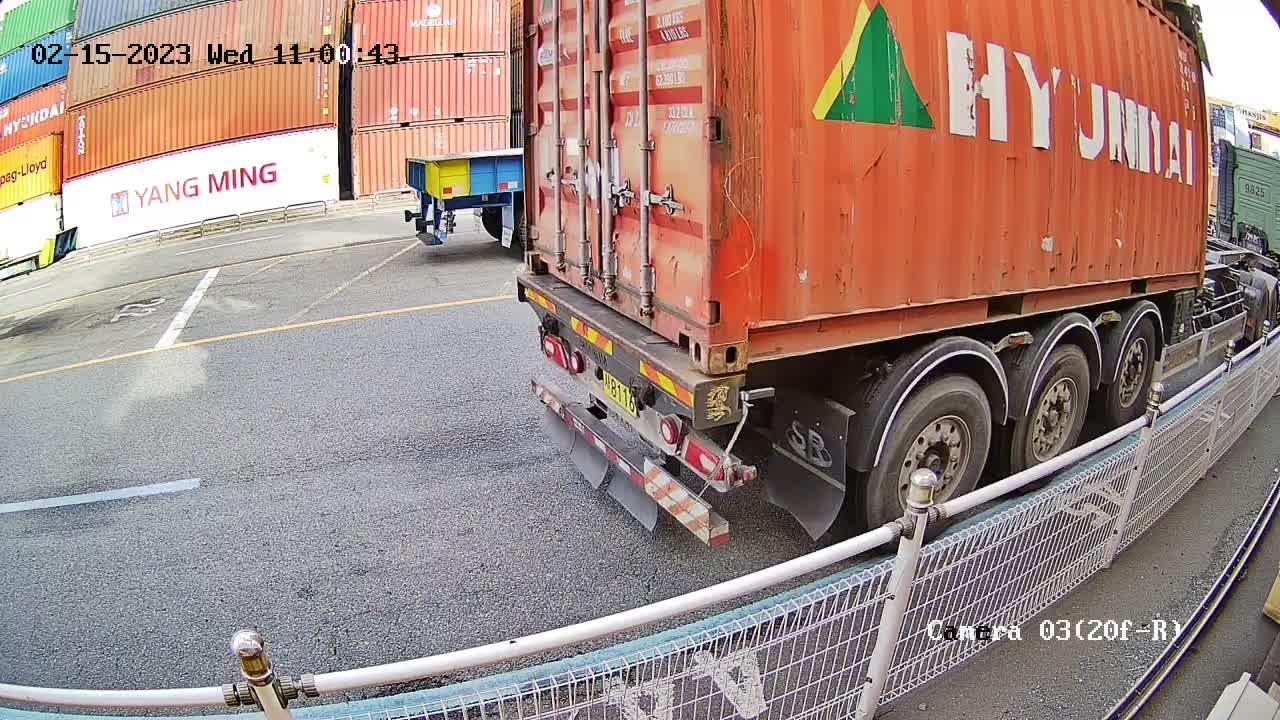Chassis: (519, 277, 710, 417)
Cone: (708, 372, 747, 423)
Hole_L: (710, 294, 788, 372), (527, 227, 558, 280)
Hole_R: (652, 283, 714, 378)
Tire: (870, 377, 991, 519), (1010, 349, 1092, 471), (1104, 320, 1156, 428)
